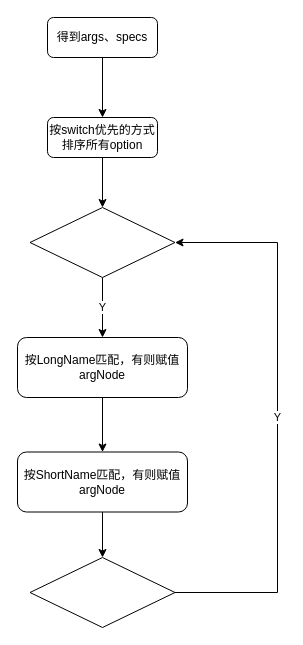
Some shapes in this 303 by 645 pixel diagram are drawn without their labels. Each missing label, with the centre of its shape:
"argNode为null" belongs at [102,592].
"遍历options" belongs at [102,242].
